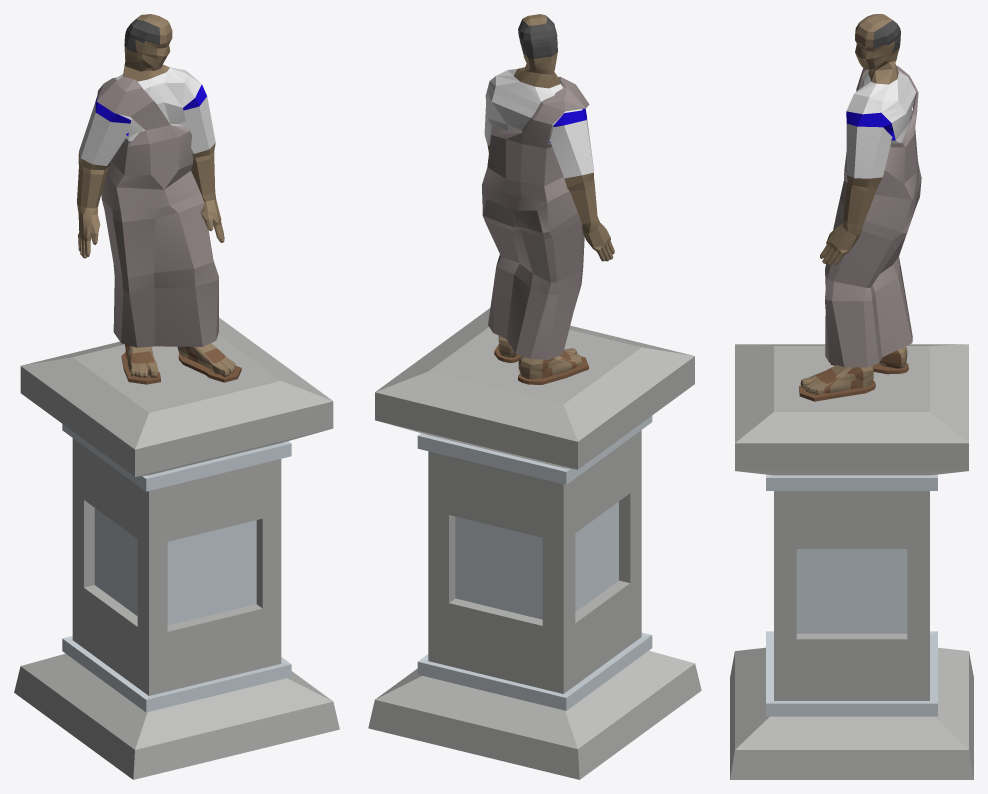
Rendered from Statue on Podium.fbx.
3 views of the same model, side by side, from view 1: azimuth 30°, elevation 25°; view 2: azimuth 150°, elevation 25°; view 3: azimuth 270°, elevation 25° (orthographic). The views are drawn at different scales.
Visible parts, largest first — view 1: Podest, dicktoga, dick, dickshirt, dicksandalen, dickfrisur; view 2: Podest, dicktoga, dickshirt, dick, dickfrisur, dicksandalen; view 3: Podest, dicktoga, dick, dickshirt, dicksandalen, dickfrisur.
Boxes of the visible parts, x1,y1,x2,y2 form: Podest: (14,317,339,779); dicktoga: (96,76,218,347); dick: (77,14,235,377); dickshirt: (79,67,215,165); dicksandalen: (121,344,241,384); dickfrisur: (124,17,160,52); Podest: (368,308,701,779); dicktoga: (481,76,589,359); dickshirt: (484,69,593,178); dick: (487,14,614,379); dickfrisur: (518,17,557,58); dicksandalen: (494,344,588,384); Podest: (730,344,973,779); dicktoga: (825,65,921,367); dick: (800,14,907,395); dickshirt: (846,70,916,178); dicksandalen: (798,350,908,401); dickfrisur: (873,19,900,52).
Bounding box in the file's own units: 110 × 350 × 110.
